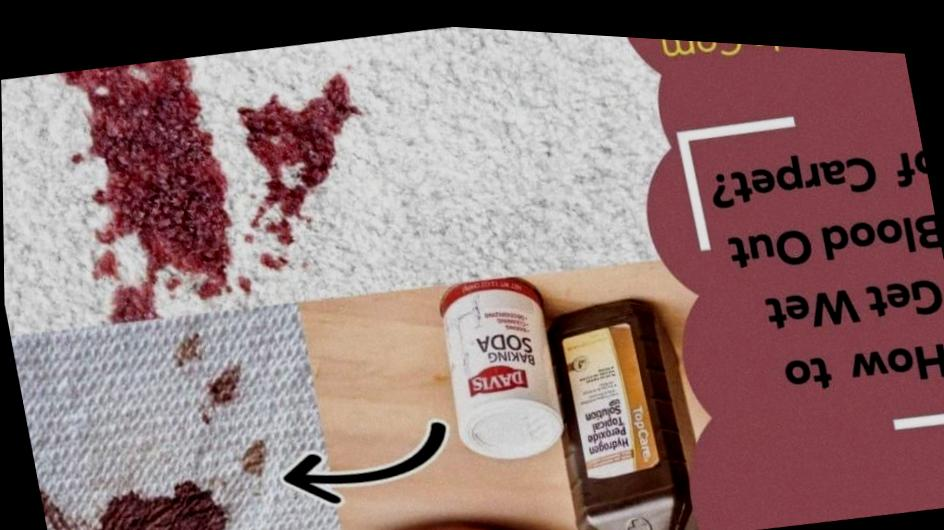Fire: (57, 55, 234, 323), (236, 70, 363, 216), (96, 478, 227, 530), (205, 357, 243, 400), (239, 437, 266, 476)
